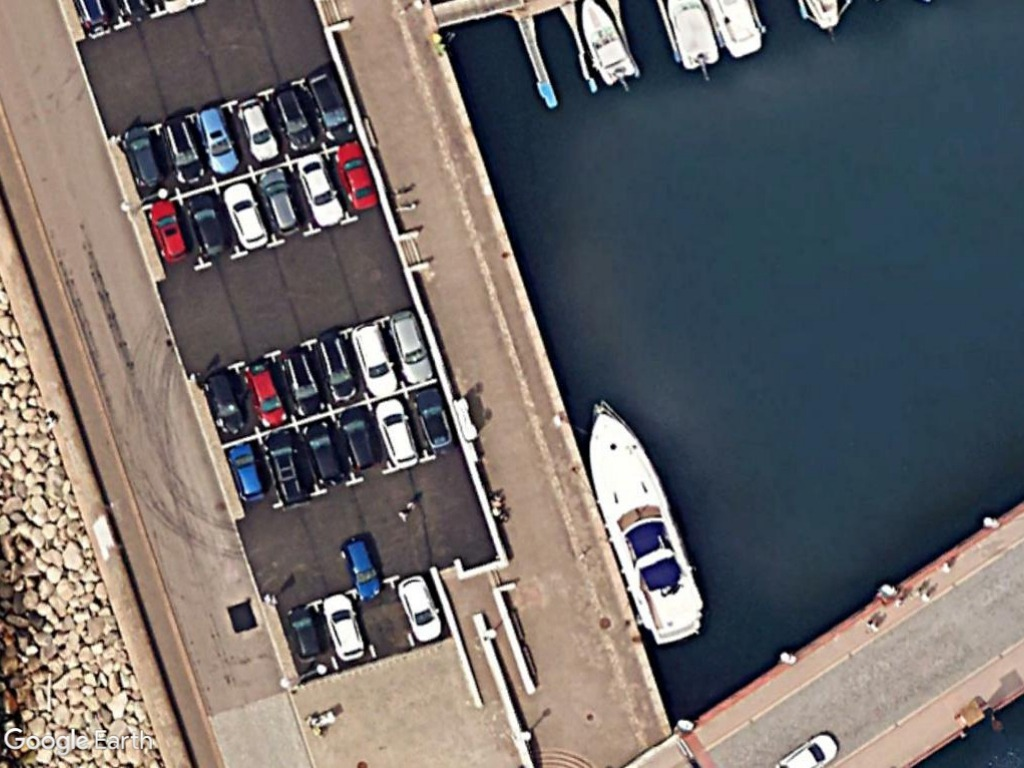boat: (581, 396, 708, 648), (577, 0, 641, 89)
car: (304, 66, 359, 150), (348, 318, 402, 400), (292, 150, 348, 229), (200, 362, 255, 441), (310, 330, 364, 408), (218, 179, 274, 253), (371, 393, 424, 470), (385, 308, 438, 385), (265, 426, 312, 512), (394, 572, 447, 647), (194, 100, 244, 178), (184, 189, 237, 262), (233, 91, 284, 165), (158, 113, 209, 187), (271, 84, 320, 158), (333, 138, 381, 212), (118, 120, 167, 192), (257, 164, 304, 238), (339, 534, 387, 606), (321, 588, 368, 661), (244, 361, 289, 433), (145, 195, 191, 265), (281, 600, 328, 667), (411, 385, 458, 452), (227, 440, 270, 506)
